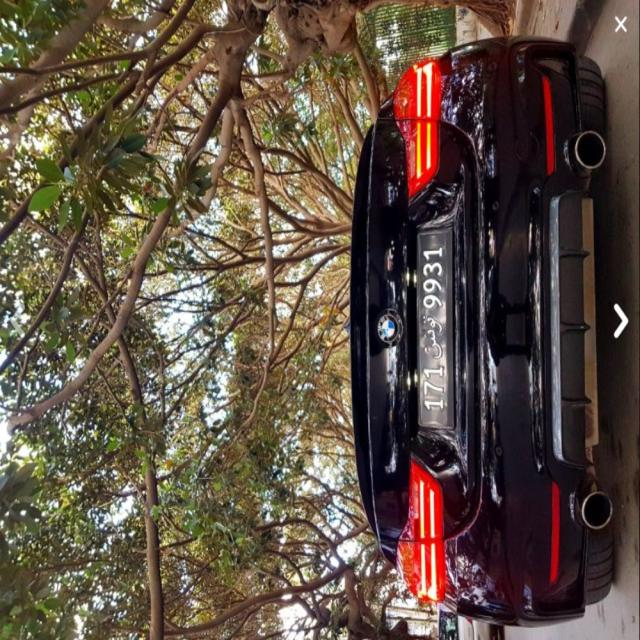LP: (412, 224, 462, 438)
